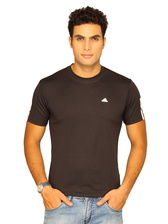clothoes: (23, 60, 150, 199)
